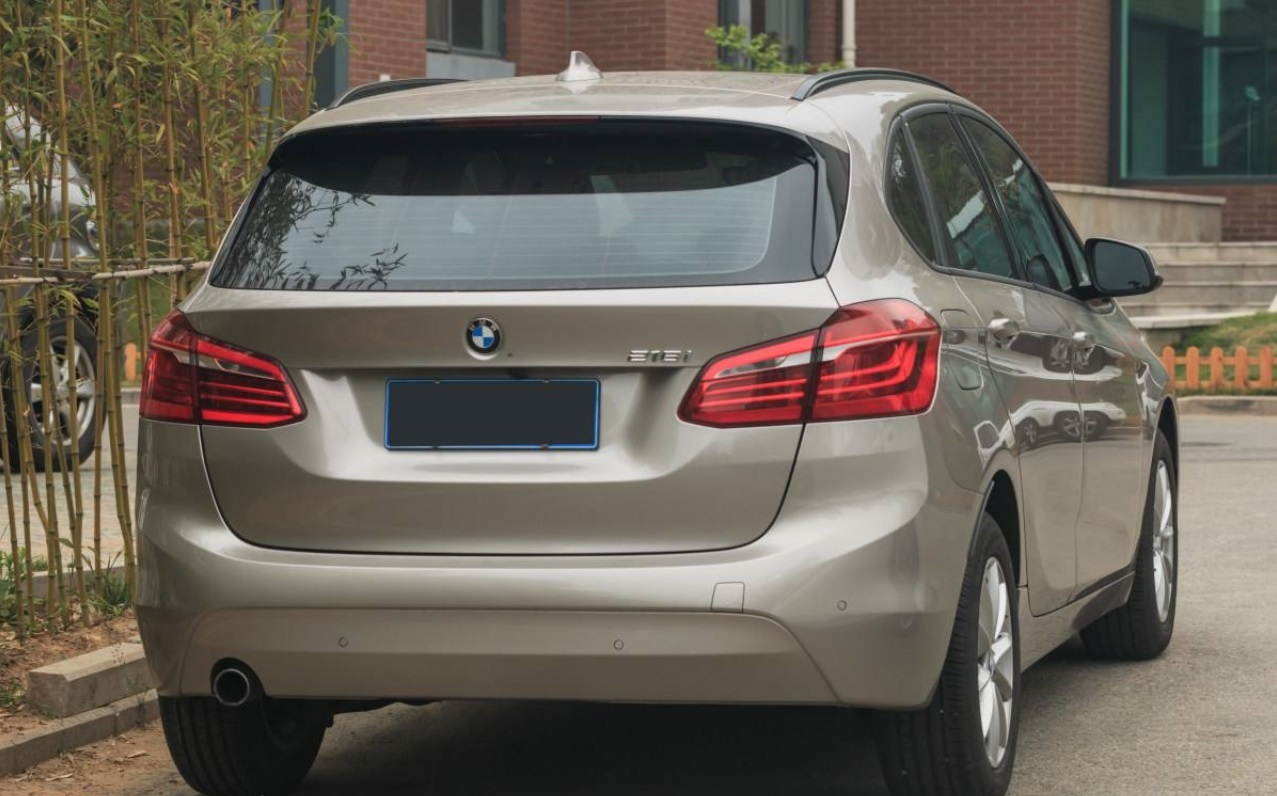SUV: (106, 67, 1215, 772)
